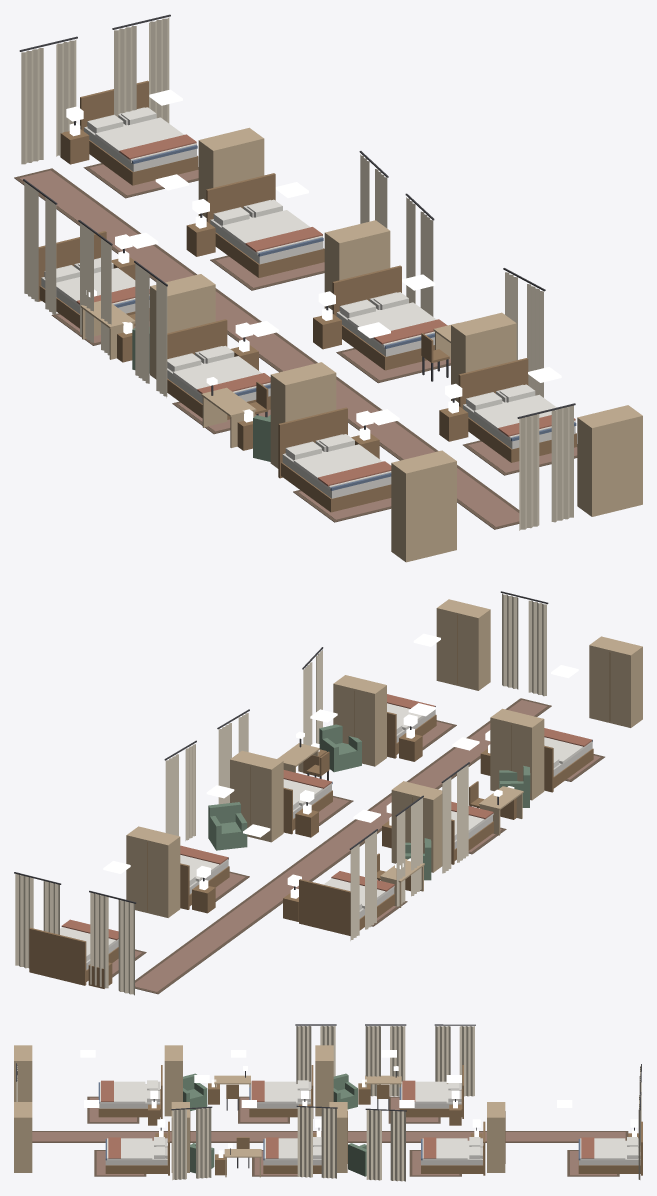
File: fine-s3.glb
3 views of the same model, one above another, from view 1: azimuth 30°, elevation 25°; view 2: azimuth 150°, elevation 25°; view 3: azimuth 270°, elevation 25° (orthographic). The views are drawn at different scales.
Visible parts, largest first — view 1: soft-s3, dresser.016, dresser.020, bed-frame.016, bed-frame.018, bed-frame.017, bed-frame.019, dresser.015, bed-frame.020, dresser.018, dresser.017, dresser.019 (+10 smaller); view 2: soft-s3, dresser.020, dresser.016, dresser.017, dresser.018, dresser.015, dresser.019, bed-frame.017, bed-frame.014, dresser.014, lounge-chair.010, lounge-chair.011 (+12 smaller); view 3: soft-s3, dresser.017, dresser.020, dresser.014, dresser.015, bed-frame.018, bed-frame.020, bed-frame.017, dresser.016, bed-frame.016, bed-frame.015, bed-frame.014 (+15 smaller).
Part boxes in pixels (x1,y1,x2,y2): soft-s3: (14,14,577,530); dresser.016: (391,450,456,562); dresser.020: (577,405,642,516); bed-frame.016: (278,407,391,512); bed-frame.018: (206,173,324,277); bed-frame.017: (80,80,198,185); bed-frame.019: (332,265,434,370); dresser.015: (270,362,336,468); bed-frame.020: (458,358,576,462); dresser.018: (324,220,390,309); dresser.017: (198,127,264,217); dresser.019: (451,312,516,402); soft-s3: (14,591,604,995); dresser.020: (436,599,490,690); dresser.016: (589,636,642,727); dresser.017: (126,826,180,917); dresser.018: (230,750,283,842); dresser.015: (490,708,544,800); dresser.019: (333,675,386,766); bed-frame.017: (29,927,118,985); bed-frame.014: (299,879,394,935); dresser.014: (391,781,442,872); lounge-chair.010: (208,802,247,850); lounge-chair.011: (319,724,361,772); soft-s3: (16,1024,641,1181); dresser.017: (487,1102,505,1172); dresser.020: (14,1102,32,1172); dresser.014: (315,1045,333,1116); dresser.015: (164,1045,182,1116); bed-frame.018: (421,1121,485,1175); bed-frame.020: (105,1121,169,1175); bed-frame.017: (578,1121,642,1175); dresser.016: (14,1045,32,1101); bed-frame.016: (98,1065,162,1118); bed-frame.015: (249,1065,313,1118); bed-frame.014: (399,1065,463,1118).
Bounding box in the file's own units: 6.7 × 2.61 × 20.54.
